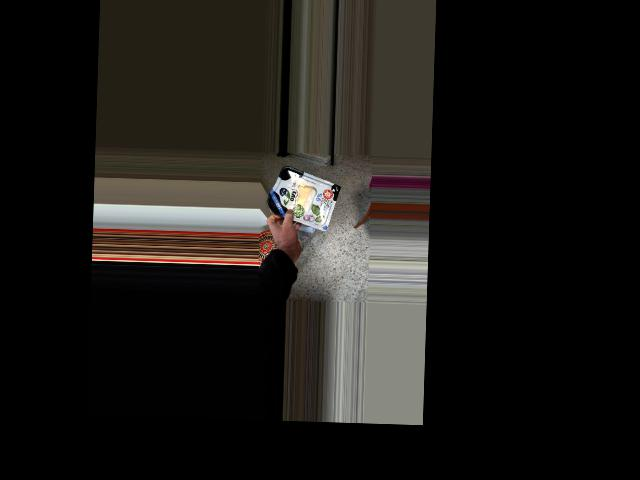cheese: (271, 171, 336, 220)
